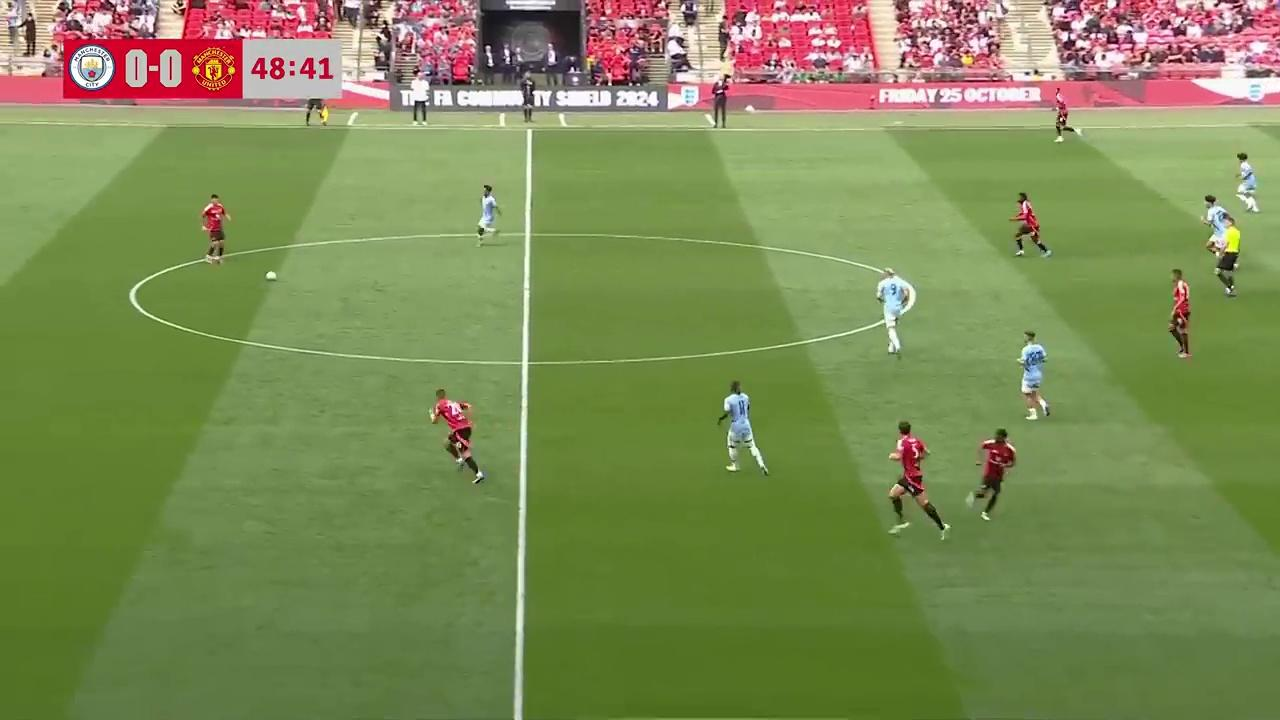ball: (264, 268, 277, 281)
player: (887, 421, 950, 540), (430, 390, 486, 484), (717, 380, 770, 475), (969, 429, 1016, 519), (1016, 330, 1050, 420), (876, 269, 908, 358), (1008, 192, 1050, 257), (200, 193, 232, 265), (1168, 269, 1191, 359), (1200, 194, 1228, 251), (476, 184, 500, 247), (1235, 152, 1259, 214), (1053, 100, 1083, 143), (304, 83, 330, 127)
referee: (1215, 216, 1240, 296), (304, 84, 330, 127)
